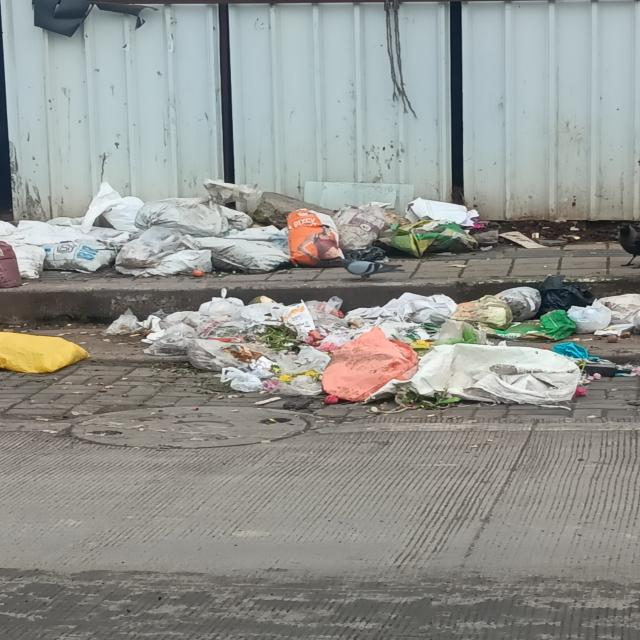garbage: (13, 290, 640, 406), (15, 188, 494, 268)
